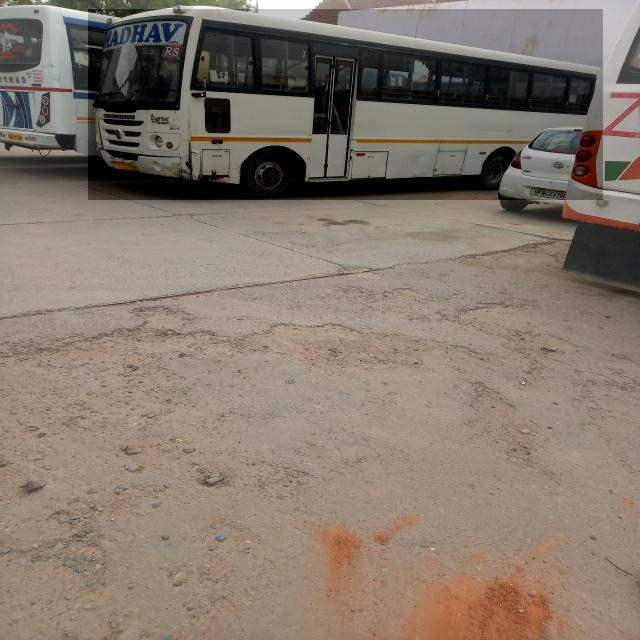Bus: (88, 9, 603, 200)
